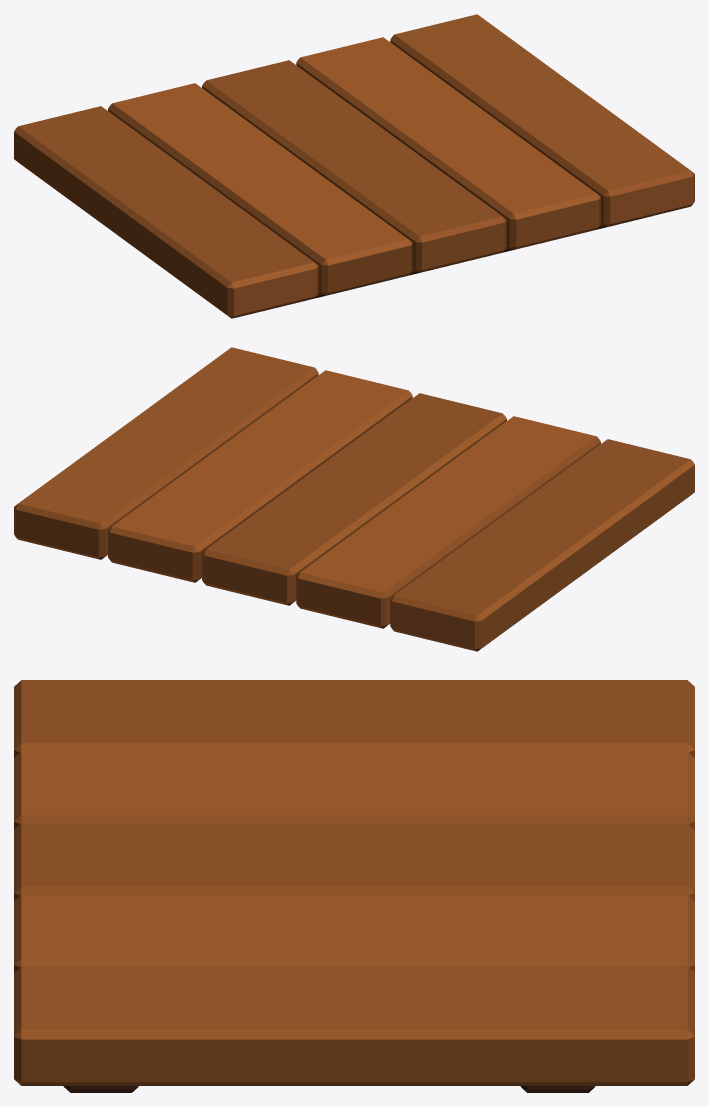
The model's file is D06_Crate_Lid.fbx.
3 renders of one model, top to bottom at view 1: azimuth 30°, elevation 25°; view 2: azimuth 150°, elevation 25°; view 3: azimuth 270°, elevation 25°, orthographic. The views are drawn at different scales.
Visible parts, largest first — view 1: D06_Crate_Lid; view 2: D06_Crate_Lid; view 3: D06_Crate_Lid.
Part boxes in pixels (x1,y1,x2,y2): D06_Crate_Lid: (14, 14, 694, 318); D06_Crate_Lid: (14, 347, 694, 651); D06_Crate_Lid: (14, 680, 694, 1092).
Size of the model in its own units: 1.01 by 0.107 by 0.82.
2 materials, 2 textured.
